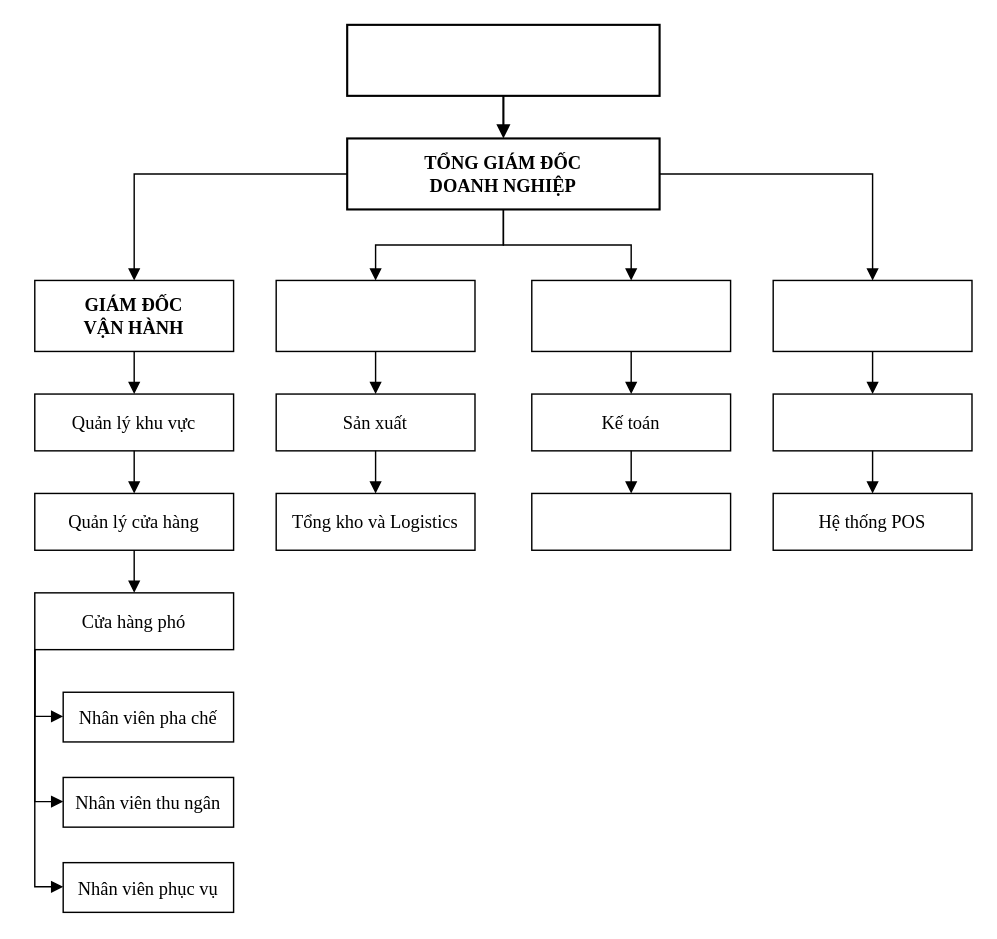
The diagram is 997 pixels wide and 939 high, and some of its shapes have lost their labels. Here are the shapes that lost their labels. From the top down, the centre of each, then its label:
At (x=502, y=59): "HỘI ĐỒNG QUẢN TRỊ".
At (x=375, y=315): "GIÁM ĐỐC CHUỖI CUNG ỨNG".
At (x=630, y=315): "GIÁM ĐỐC TÀI CHÍNH".
At (x=872, y=315): "GIÁM ĐỐC MARKETING VÀ IT".
At (x=872, y=422): "Thương hiệu".
At (x=630, y=521): "Kiểm soát nội bộ".
